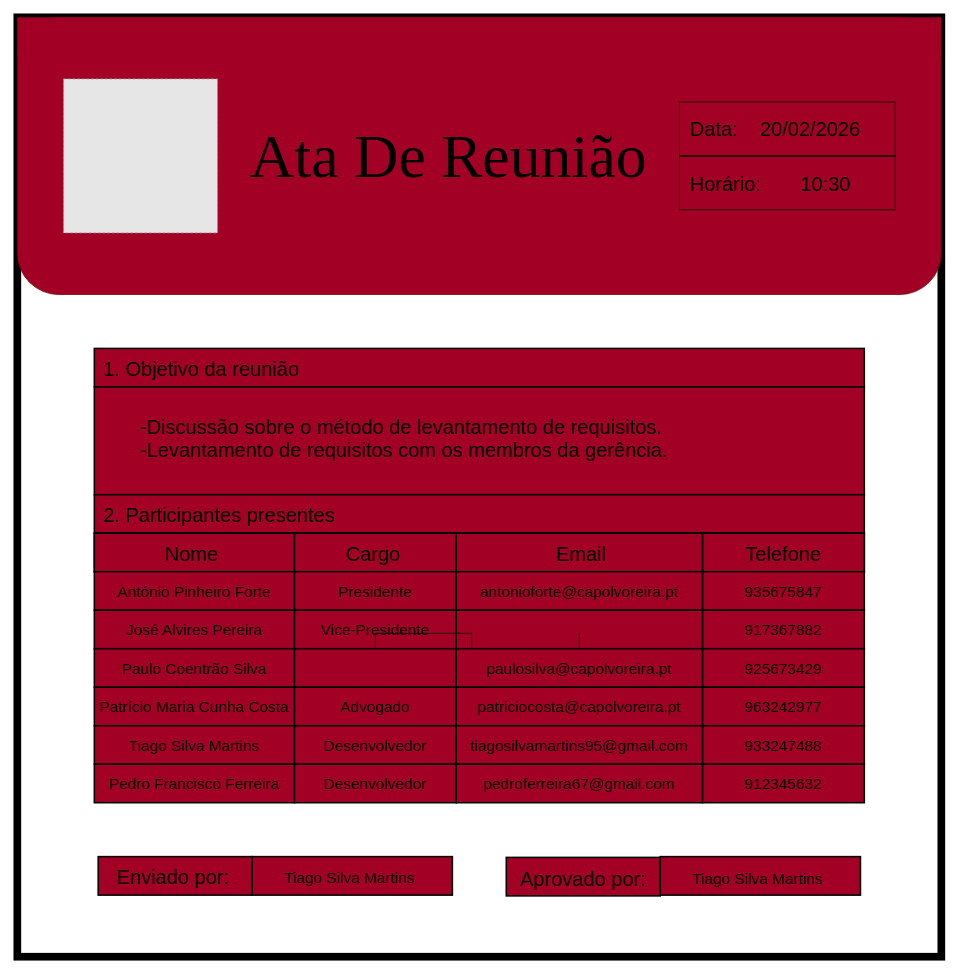
Image size: 958x973. Some labels were removed from this diagram. Grey dashed boxes stand in for pictures. Each missing label, with the box of its shape:
josealvires@capolvoreira.pt: (455, 609, 703, 649)
Tesoureiro: (293, 648, 457, 688)
